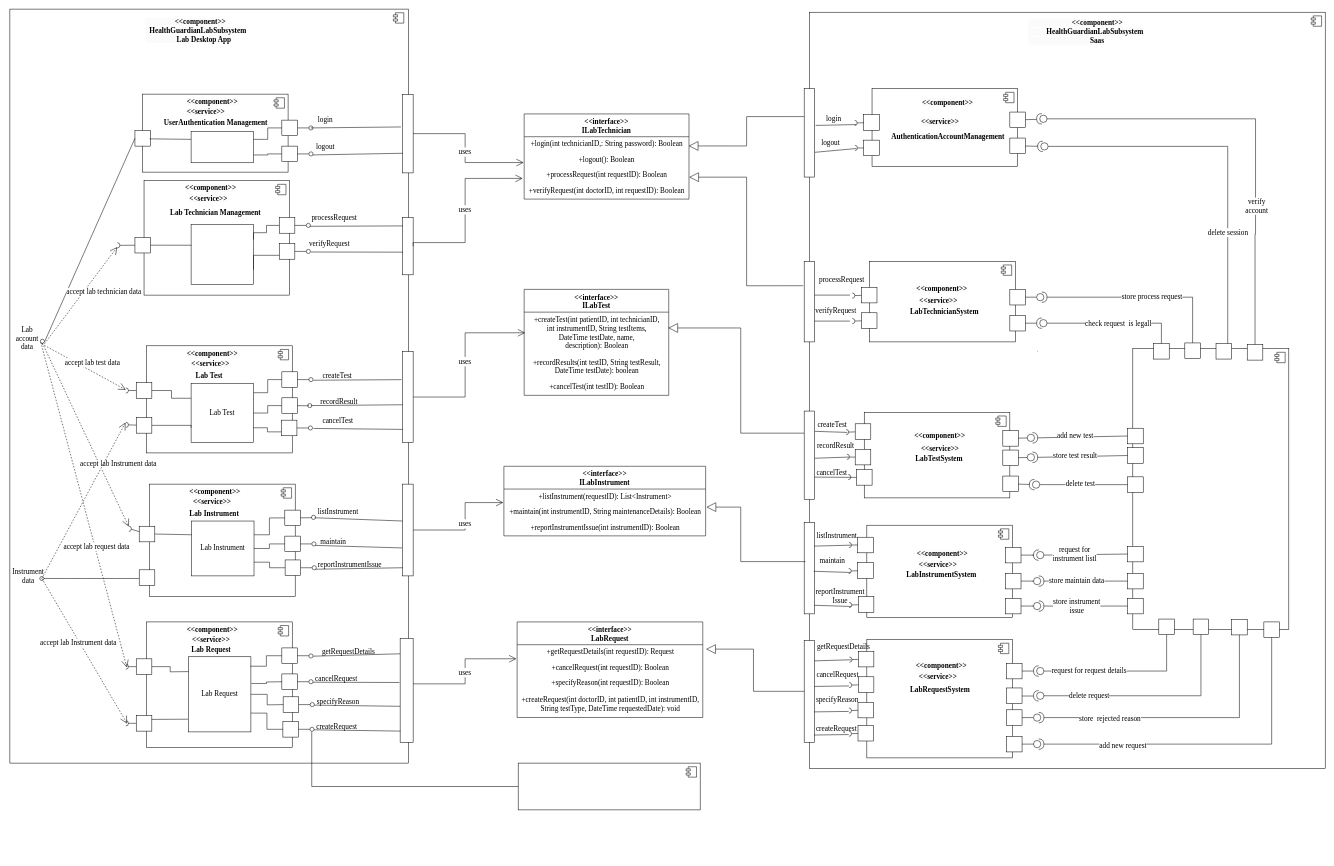
Image size: 1334x866. Some labels were removed from this diagram. Each missing label, with the box of its shape:
<<component>> HealthGuardian Doctor Subsystem Doctor Desktop App: (518, 763, 700, 810)
Lab Technician: (191, 224, 254, 285)
UserAuthentication: (191, 131, 254, 163)
«component» «service» data management: (1132, 348, 1289, 629)
